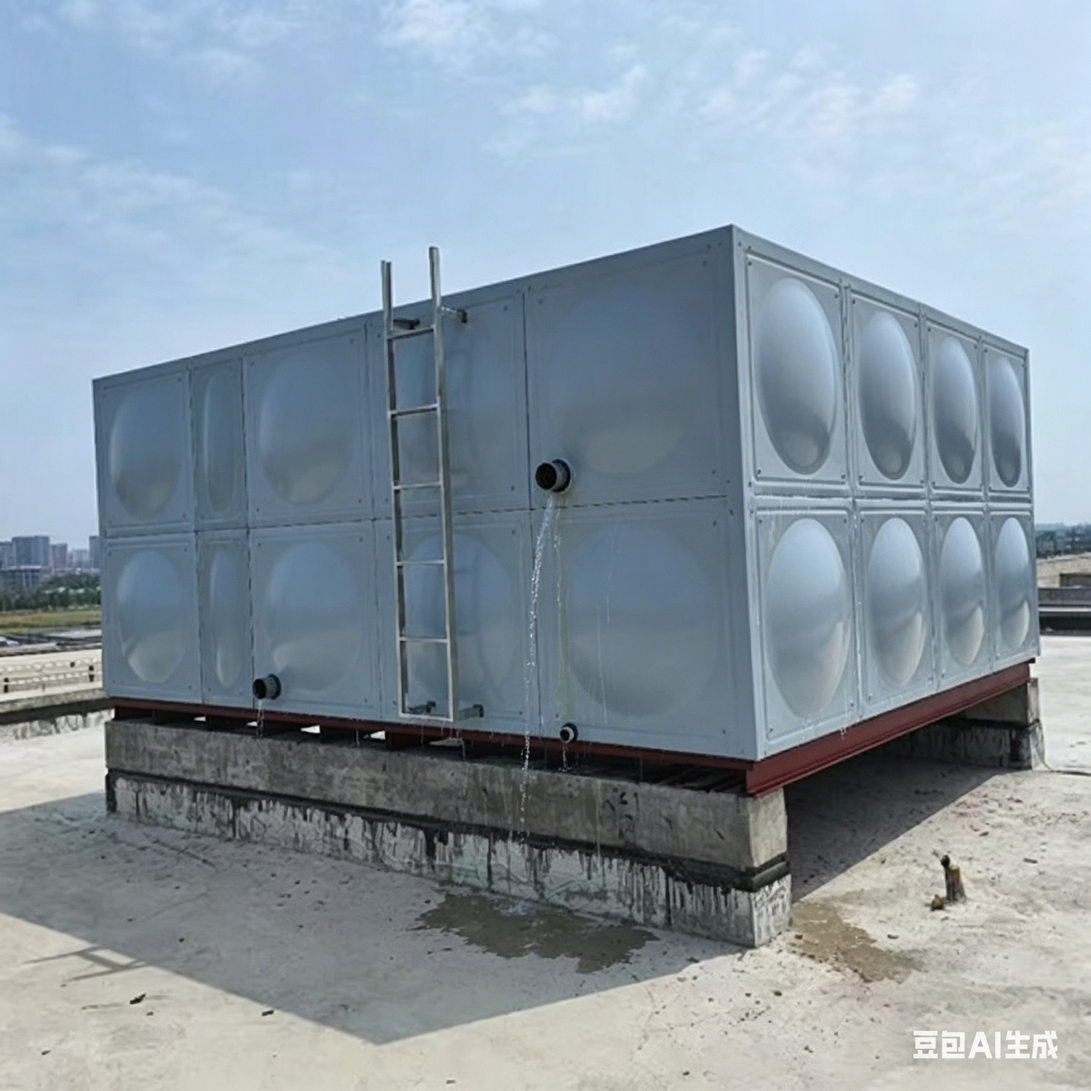Leakage: (421, 882, 646, 971), (513, 483, 552, 913), (788, 906, 913, 981)
